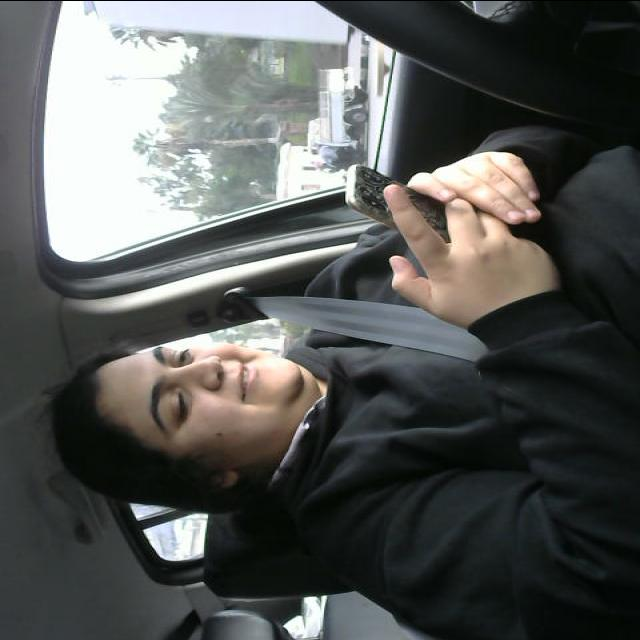mobile use: (340, 162, 470, 242)
